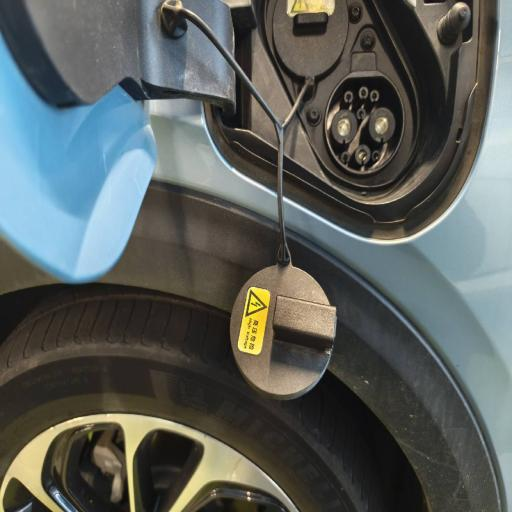DC_hole: (368, 107, 396, 143), (331, 109, 358, 145)
PE: (354, 145, 370, 165)
charging_port: (324, 70, 406, 178)
